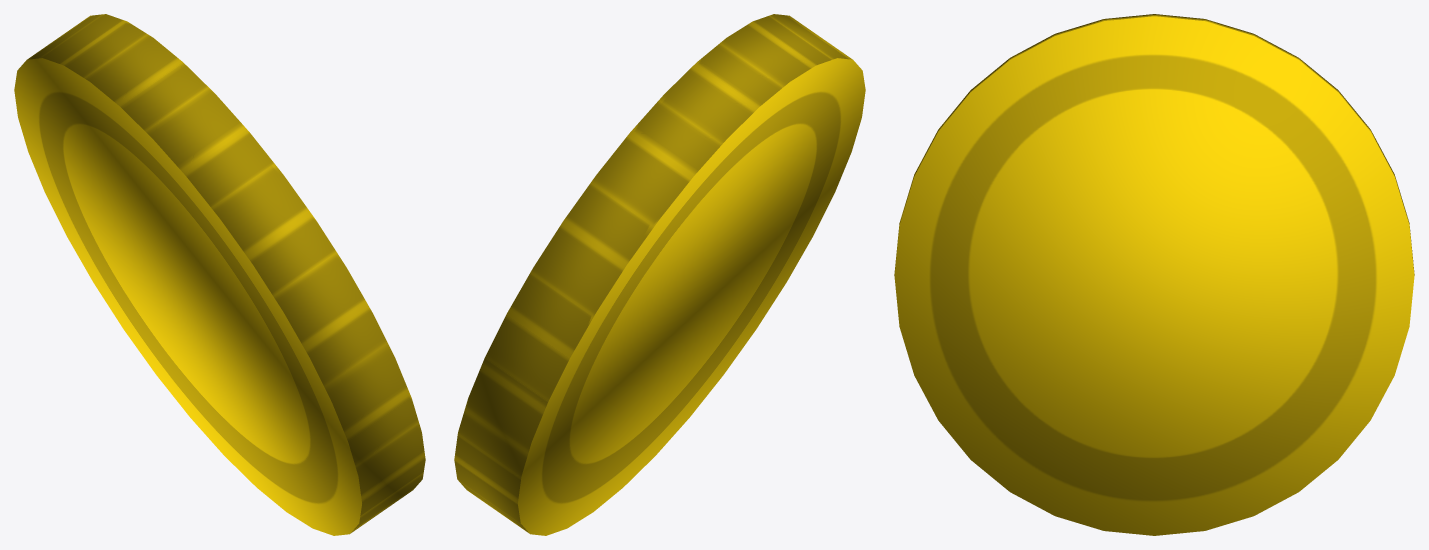
Rendered from coin.fbx.
3 renders of one model, left to right at view 1: azimuth 30°, elevation 25°; view 2: azimuth 150°, elevation 25°; view 3: azimuth 270°, elevation 25°, orthographic. The views are drawn at different scales.
Parts seen in each view (by area): view 1: Cylindre; view 2: Cylindre; view 3: Cylindre.
Boxes of the visible parts, x1,y1,x2,y2 form: Cylindre: (14,14,425,535); Cylindre: (454,14,865,535); Cylindre: (894,14,1414,535).
Size of the model in its own units: 44.11 by 82.16 by 84.39.
1 material, 1 textured.
